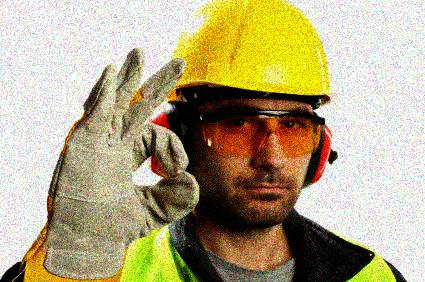helmet: (146, 1, 340, 229)
